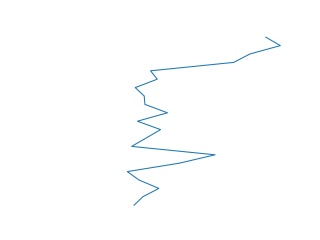crevasseRiverChannelBar: (123, 34, 286, 209)
